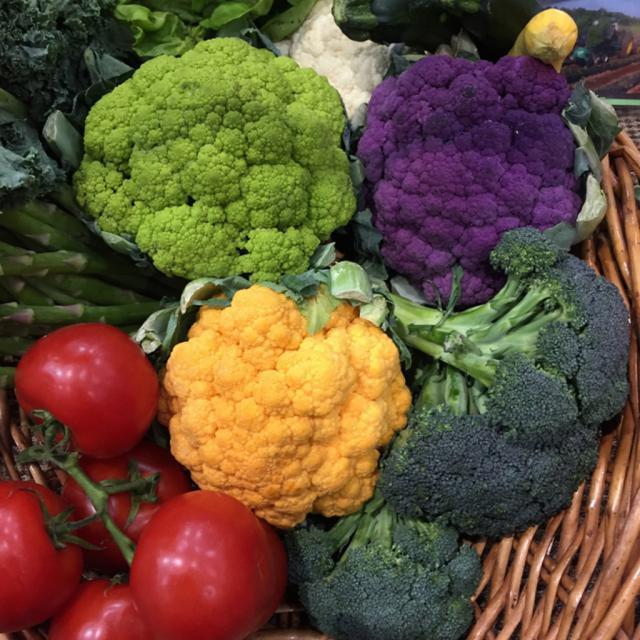Broccoli: (377, 226, 629, 538), (68, 33, 362, 286), (284, 489, 486, 637)
